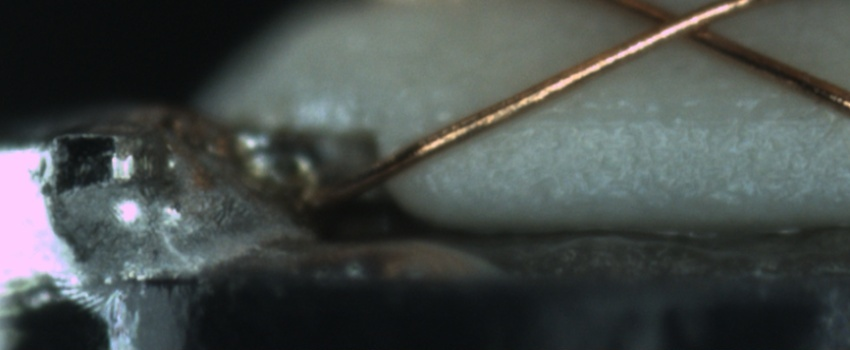CL: (624, 1, 736, 48)
DL: (514, 86, 829, 150)
